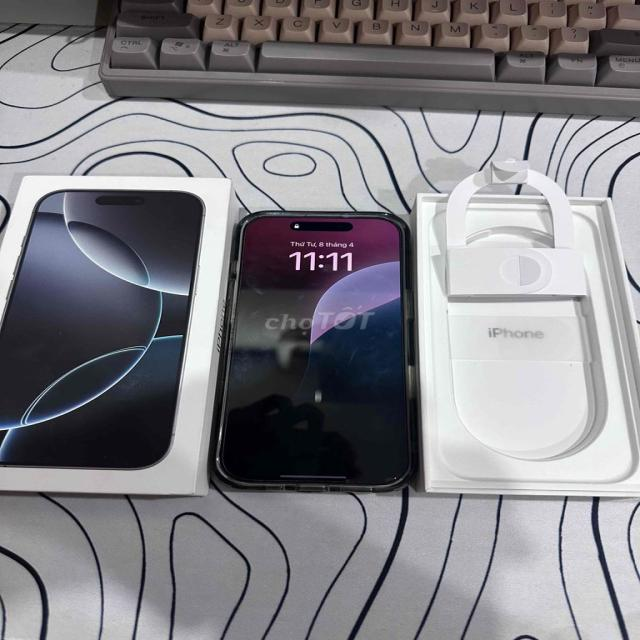gen_16: (216, 212, 412, 488)
